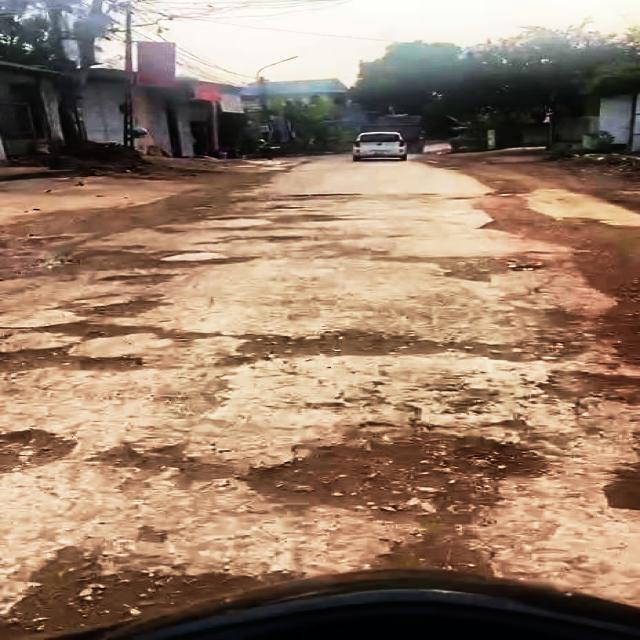pothole: (241, 420, 553, 523), (0, 546, 308, 640), (0, 292, 189, 373), (217, 330, 586, 366), (91, 435, 236, 491), (377, 251, 546, 286), (535, 367, 640, 416), (0, 423, 91, 476), (601, 451, 640, 515)
